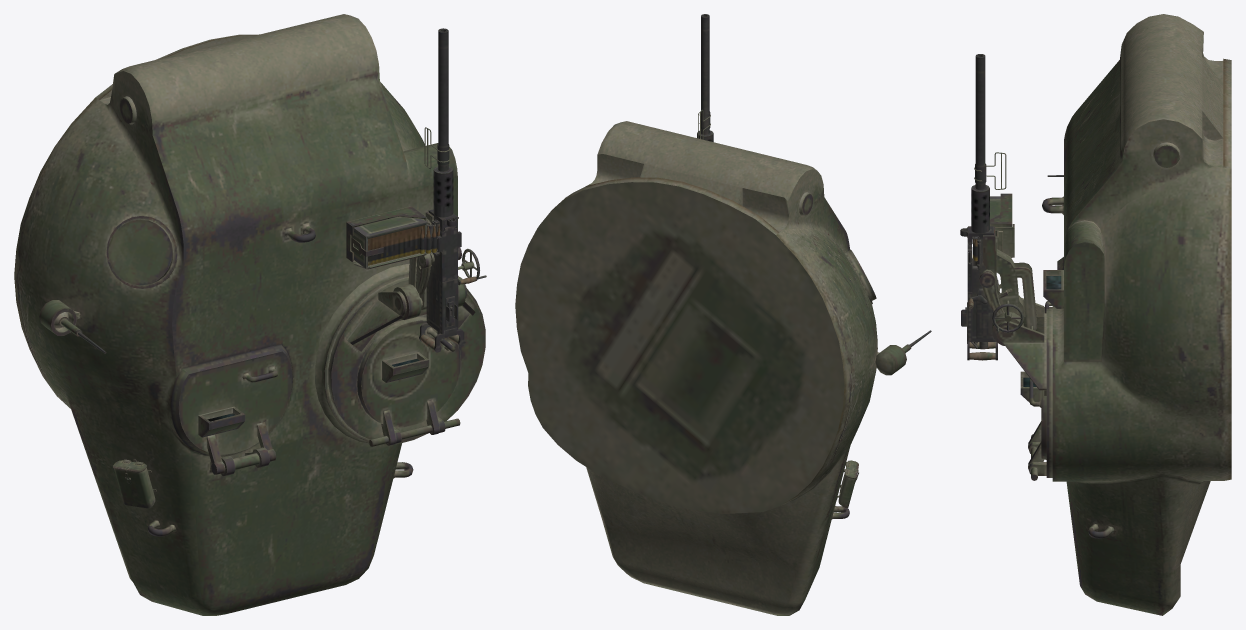
The model's file is Turret_01.glb.
3 renders of one model, left to right at view 1: azimuth 30°, elevation 25°; view 2: azimuth 150°, elevation 25°; view 3: azimuth 270°, elevation 25°, orthographic. The views are drawn at different scales.
Parts seen in each view (by area): view 1: set_0_group_0; view 2: set_0_group_0; view 3: set_0_group_0.
Boxes of the visible parts, <box> form: set_0_group_0: <box>14,14,486,615</box>; set_0_group_0: <box>515,14,931,615</box>; set_0_group_0: <box>960,14,1231,615</box>.
Bounding box in the file's own units: 2.25 × 3.12 × 1.35.
Materials: 1 (1 with a texture image).
